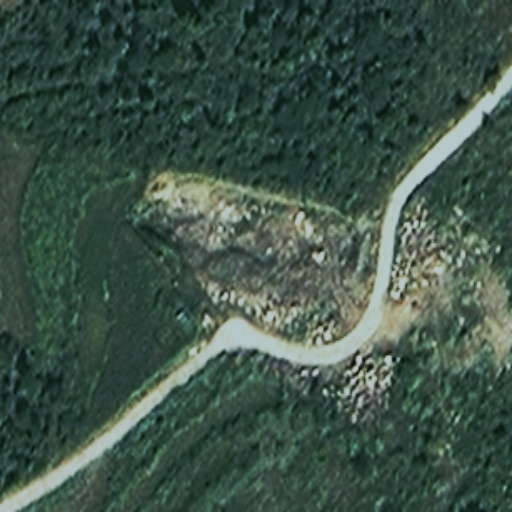landslide: (154, 164, 372, 320)
